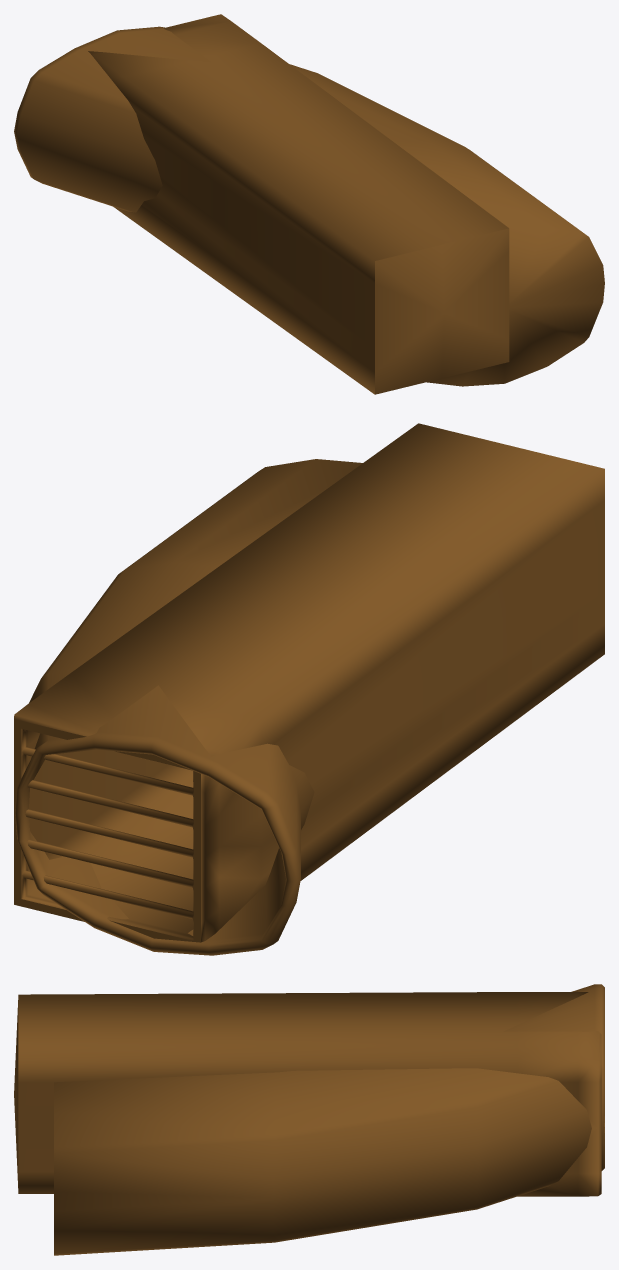
File: Sewer_Drains.fbx
3 renders of one model, top to bottom at view 1: azimuth 30°, elevation 25°; view 2: azimuth 150°, elevation 25°; view 3: azimuth 270°, elevation 25°, orthographic. The views are drawn at different scales.
Parts seen in each view (by area): view 1: Drain_1, Drain_2; view 2: Drain_1, Drain_2; view 3: Drain_2, Drain_1.
Boxes of the visible parts, <box> form: Drain_1: <box>88,14,509,394</box>; Drain_2: <box>14,26,604,386</box>; Drain_1: <box>14,423,604,942</box>; Drain_2: <box>15,459,362,955</box>; Drain_2: <box>54,984,604,1255</box>; Drain_1: <box>14,991,601,1196</box>.
Size of the model in its own units: 137 by 74.51 by 221.
